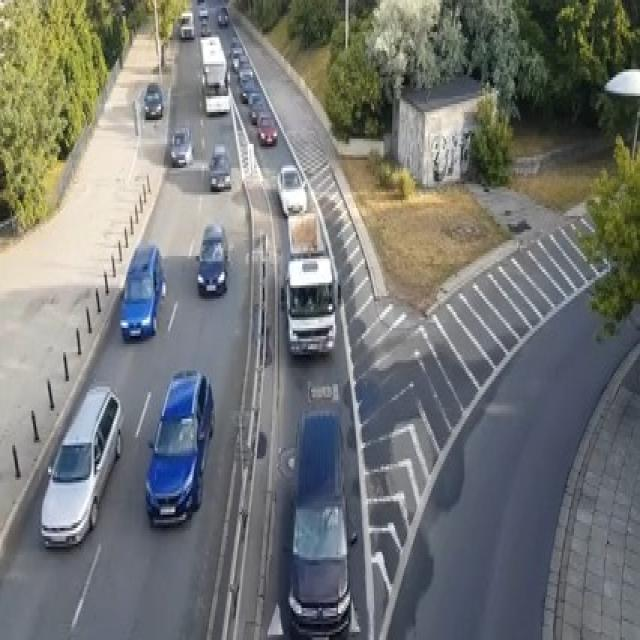bus: (286, 381, 352, 632)
car: (39, 384, 122, 549), (144, 368, 215, 528), (282, 256, 336, 357), (119, 243, 165, 341), (197, 221, 228, 296), (287, 211, 327, 256), (276, 163, 306, 216), (208, 144, 232, 189), (170, 126, 192, 166), (142, 83, 164, 117), (255, 112, 278, 144), (240, 77, 260, 101), (251, 96, 266, 123), (179, 11, 194, 37), (216, 5, 228, 27), (198, 2, 208, 18), (200, 18, 210, 34), (196, 0, 204, 3)
